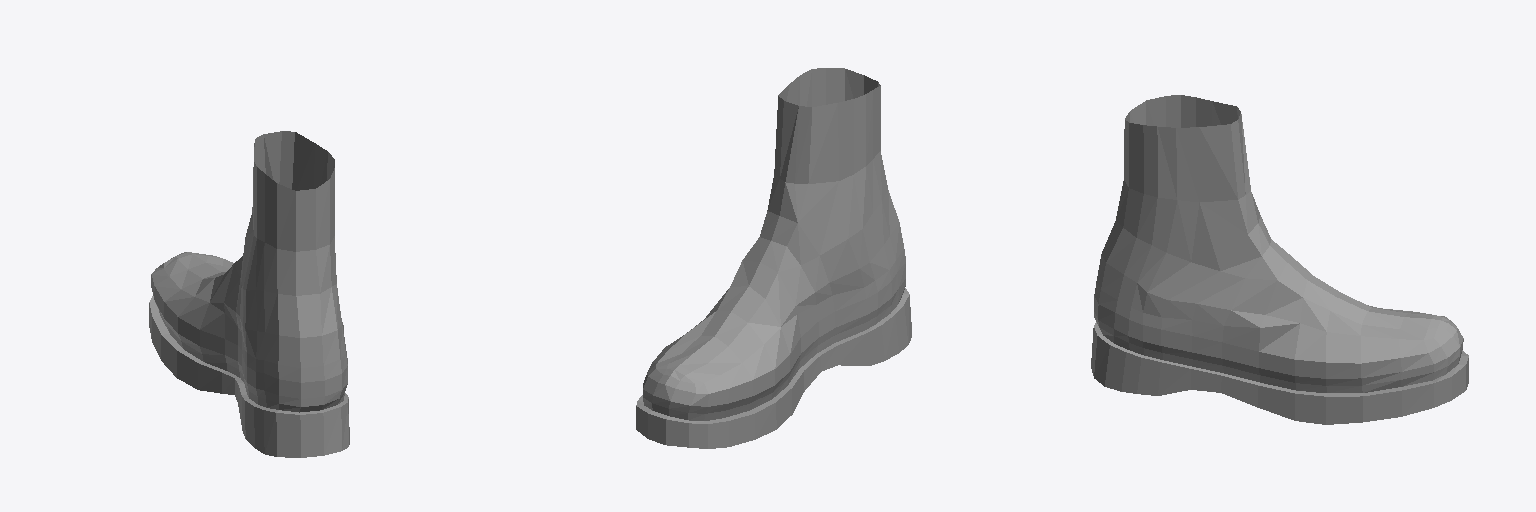
File: boots_1.obj
3 renders of one model, left to right at view 1: azimuth 30°, elevation 25°; view 2: azimuth 150°, elevation 25°; view 3: azimuth 270°, elevation 25°, orthographic.
Parts seen in each view (by area): view 1: Plane.001; view 2: Plane.001; view 3: Plane.001.
Part boxes in pixels (bbox=[...]): Plane.001: bbox=[149, 131, 349, 457]; Plane.001: bbox=[636, 68, 911, 448]; Plane.001: bbox=[1091, 95, 1468, 424].
Size of the model in its own units: 3.37 by 6.77 by 8.36.